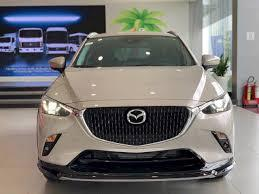mazda: (122, 102, 151, 132)
